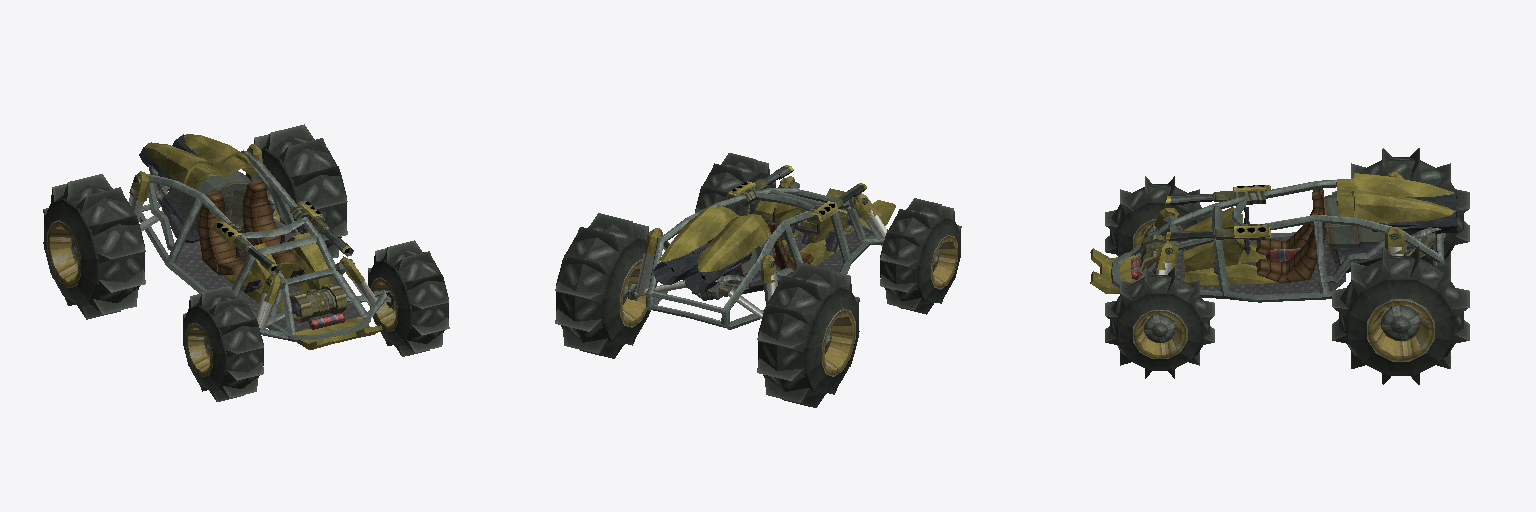
3 renders of one model, left to right at view 1: azimuth 30°, elevation 25°; view 2: azimuth 150°, elevation 25°; view 3: azimuth 270°, elevation 25°, orthographic.
Parts seen in each view (by area): view 1: Tire1, Tire2, Tire3, Pipe3, Metal5, Seat, Metal2, Pipe4, Metal4, Pipe5, Gun2, Mesh1 (+3 smaller); view 2: Tire1, Tire2, Tire3, Metal5, Pipe3, Pipe4, Pipe5, Metal2, Gun2, Seat; view 3: Tire2, Metal5, Pipe3, Tire1, Tire3, Seat, Metal2, Pipe4, Metal4, Gun2, default, Gun1.
Boxes of the visible parts, <box> form: Tire1: <box>52,136,448,392</box>; Tire2: <box>44,150,409,390</box>; Tire3: <box>43,124,449,401</box>; Pipe3: <box>140,150,390,341</box>; Metal5: <box>129,134,382,349</box>; Seat: <box>199,180,294,274</box>; Metal2: <box>175,222,360,331</box>; Pipe4: <box>139,134,306,314</box>; Metal4: <box>168,170,345,288</box>; Pipe5: <box>129,177,376,328</box>; Gun2: <box>227,206,335,317</box>; Mesh1: <box>290,284,347,322</box>; Tire1: <box>556,162,953,395</box>; Tire2: <box>604,173,960,393</box>; Tire3: <box>555,153,961,407</box>; Metal5: <box>643,176,895,283</box>; Pipe3: <box>646,188,887,329</box>; Pipe4: <box>653,203,851,293</box>; Pipe5: <box>635,210,886,318</box>; Metal2: <box>784,222,869,272</box>; Gun2: <box>685,179,843,296</box>; Seat: <box>737,214,813,270</box>; Tire2: <box>1118,203,1453,375</box>; Metal5: <box>1090,172,1455,293</box>; Pipe3: <box>1111,178,1445,302</box>; Tire1: <box>1110,157,1463,360</box>; Tire3: <box>1105,148,1469,384</box>; Seat: <box>1256,188,1325,283</box>; Metal2: <box>1138,234,1345,294</box>; Pipe4: <box>1150,194,1457,274</box>; Metal4: <box>1163,194,1384,262</box>; Gun2: <box>1143,191,1405,255</box>; default: <box>1165,194,1212,240</box>; Gun1: <box>1233,185,1270,237</box>.
Bounding box in the file's own units: 72.4 × 38.28 × 90.61.
Materials: 22 (22 with a texture image).